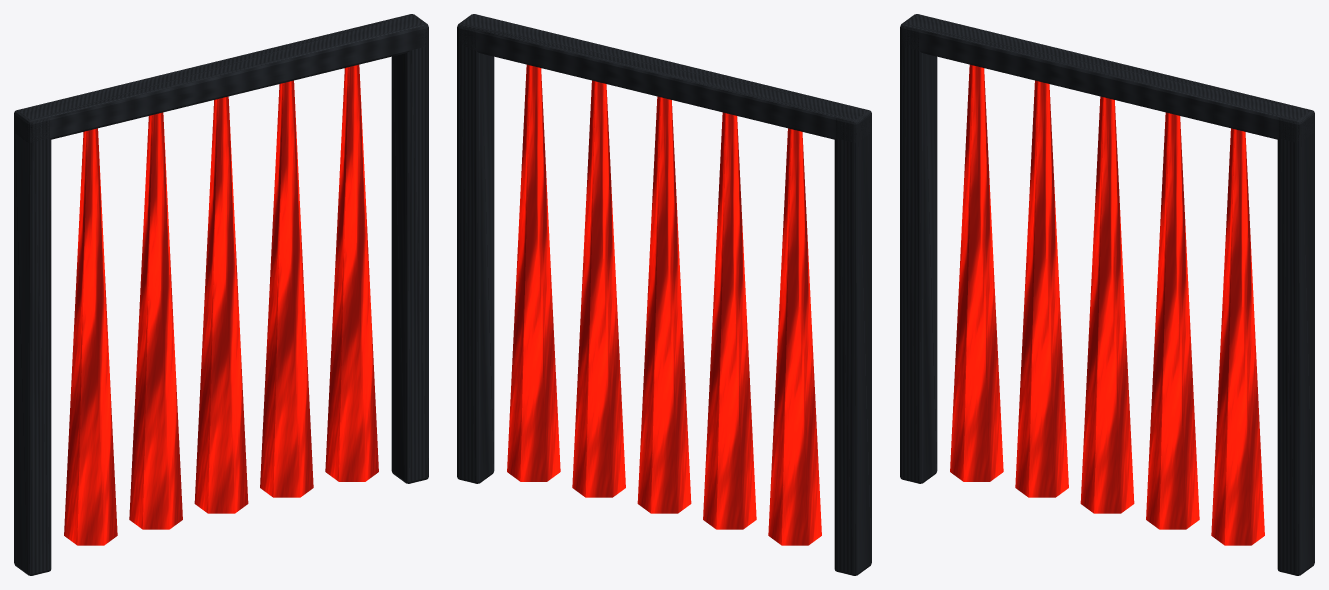
File: SM_FC_HeatBarrier.glb
3 renders of one model, left to right at view 1: azimuth 30°, elevation 25°; view 2: azimuth 150°, elevation 25°; view 3: azimuth 330°, elevation 25°, orthographic.
Parts seen in each view (by area): view 1: SM_FC_HeatBarrier; view 2: SM_FC_HeatBarrier; view 3: SM_FC_HeatBarrier.
Part boxes in pixels (bbox=[...]): SM_FC_HeatBarrier: bbox=[14, 14, 428, 575]; SM_FC_HeatBarrier: bbox=[457, 14, 871, 575]; SM_FC_HeatBarrier: bbox=[900, 14, 1314, 575].
Size of the model in its own units: 2.76 by 3 by 0.32.
Materials: 2 (2 with a texture image).
